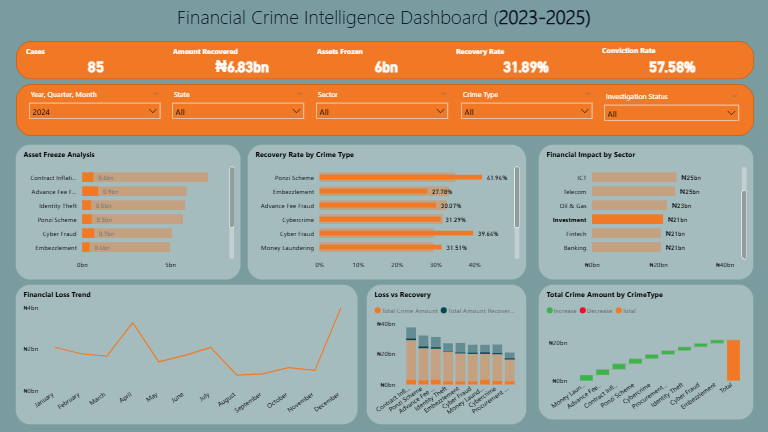

What the dashboard file says about the page in this screenshot:
{"tool":"powerbi","page":{"name":"Financial Impact Analysis","canvas":[1280,720],"ordinal":4},"visuals":[{"type":"shape","box":[26.2,67.5,1230,63.8],"z":0},{"type":"card","title":"Cases","fields":{"Values":["CountNonNull(Crime Dataset.CaseID)"]},"box":[38.3,76.5,243.2,53.5],"z":0,"group":"g2"},{"type":"card","title":"Amount Recovered","fields":{"Values":["_Measures.Total Amount Recovered"]},"box":[282.7,76.7,240.9,52.9],"z":1000,"group":"g2"},{"type":"shape","box":[26.7,140,1230,86.7],"z":1000},{"type":"textbox","box":[0,0,1280,55],"z":2000},{"type":"card","title":"Recovery Rate","fields":{"Values":["_Measures.Recovery Rate"]},"box":[755.2,76.7,243.2,52.9],"z":2000,"group":"g2"},{"type":"slicer","fields":{"Values":["EFCC_Data.CrimeType"]},"box":[757.5,143.3,238.8,80.8],"z":2000,"group":"g1"},{"type":"card","title":"Assets Frozen","fields":{"Values":["_Measures.Total Assets Frozen"]},"box":[523.6,76.7,240.9,52.9],"z":3000,"group":"g2"},{"type":"slicer","fields":{"Values":["EFCC_Data.ReportDate.Variation.Date Hierarchy.Year","EFCC_Data.ReportDate.Variation.Date Hierarchy.Quarter","EFCC_Data.ReportDate.Variation.Date Hierarchy.Month"]},"box":[38.3,143.3,238.8,80.8],"z":3000,"group":"g1"},{"type":"lineChart","title":"Financial Loss Trend","fields":{"Category":["EFCC_Data.ReportDate.Variation.Date Hierarchy.Month"],"Y":["_Measures.Total Crime Amount"]},"box":[25.8,473.2,572.2,235.1],"z":3000},{"type":"card","title":"Conviction Rate","fields":{"Values":["_Measures.Conviction Rate"]},"box":[998.4,75,243.2,54.5],"z":4000,"group":"g2"},{"type":"barChart","title":"Recovery Rate by Crime Type","fields":{"Category":["EFCC_Data.CrimeType"],"Y":["_Measures.Recovery Rate by Crime"]},"box":[411.3,240.2,466,226.8],"z":4000},{"type":"slicer","fields":{"Values":["EFCC_Data.Sector"]},"box":[517.3,143.3,240.2,80.8],"z":5000,"group":"g1"},{"type":"barChart","title":"Asset Freeze Analysis","fields":{"Category":["EFCC_Data.CrimeType"],"Y":["_Measures.Total Assets Frozen"]},"box":[25.8,240.2,377.3,226.8],"z":5000},{"type":"group","id":"g1","title":"Group 2","box":[38.3,143.3,1203.3,83.3],"z":6000},{"type":"slicer","fields":{"Values":["EFCC_Data.State"]},"box":[277.1,143.3,240.2,80.8],"z":6000,"group":"g1"},{"type":"barChart","title":"Financial Impact by Sector","fields":{"Category":["EFCC_Data.Sector"],"Y":["_Measures.Total Crime Amount"]},"box":[896.9,240.2,359.8,226.8],"z":7000},{"type":"group","id":"g2","title":"Group 1","box":[38.3,75,1203.3,55],"z":8000},{"type":"columnChart","title":"Loss vs Recovery","fields":{"Y":["_Measures.Total Crime Amount","_Measures.Total Amount Recovered"],"Category":["EFCC_Data.CrimeType"]},"box":[609.3,473.2,268,235.1],"z":9000},{"type":"waterfallChart","fields":{"Category":["EFCC_Data.CrimeType"],"Y":["_Measures.Total Crime Amount"]},"box":[896.9,473.2,359.8,226.8],"z":10000},{"type":"slicer","fields":{"Values":["EFCC_Data.InvestigationStatus"]},"box":[996.3,145.8,245.4,80.8],"z":13001,"group":"g1"}]}

Visuals, with their boxes in screenshot pixels (x1, y1, x2, y2), scaled from the page's 1280x720 canvas onto the 768x432 screenshot:
shape: rect(16, 40, 754, 79)
"Cases" card: rect(23, 46, 169, 78)
"Amount Recovered" card: rect(170, 46, 314, 78)
shape: rect(16, 84, 754, 136)
textbox: rect(0, 0, 767, 33)
"Recovery Rate" card: rect(453, 46, 599, 78)
slicer - EFCC_Data.CrimeType: rect(454, 86, 598, 134)
"Assets Frozen" card: rect(314, 46, 459, 78)
slicer - EFCC_Data.ReportDate.Variation.Date Hierarchy.Year x EFCC_Data.ReportDate.Variation.Date Hierarchy.Quarter: rect(23, 86, 166, 134)
"Financial Loss Trend" lineChart: rect(15, 284, 359, 425)
"Conviction Rate" card: rect(599, 45, 745, 78)
"Recovery Rate by Crime Type" barChart: rect(247, 144, 526, 280)
slicer - EFCC_Data.Sector: rect(310, 86, 454, 134)
"Asset Freeze Analysis" barChart: rect(15, 144, 242, 280)
"Group 2" group: rect(23, 86, 745, 136)
slicer - EFCC_Data.State: rect(166, 86, 310, 134)
"Financial Impact by Sector" barChart: rect(538, 144, 754, 280)
"Group 1" group: rect(23, 45, 745, 78)
"Loss vs Recovery" columnChart: rect(366, 284, 526, 425)
waterfallChart - EFCC_Data.CrimeType x _Measures.Total Crime Amount: rect(538, 284, 754, 420)
slicer - EFCC_Data.InvestigationStatus: rect(598, 87, 745, 136)
